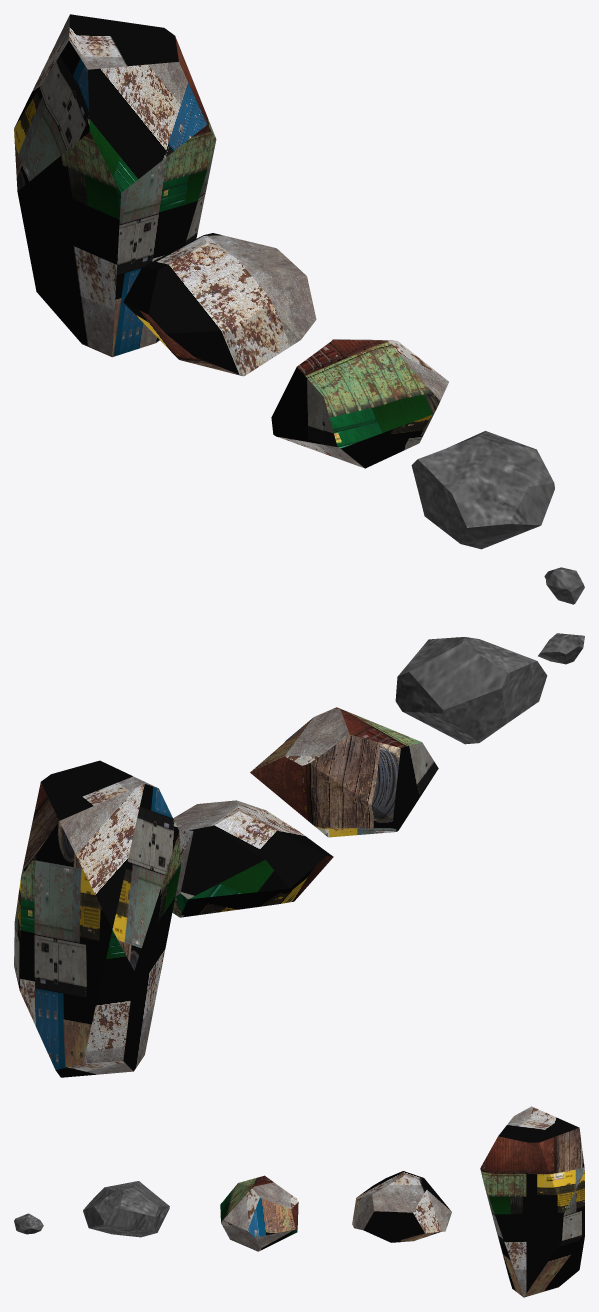
The picture shows the model from 3 angles, top to bottom: view 1: azimuth 30°, elevation 25°; view 2: azimuth 150°, elevation 25°; view 3: azimuth 270°, elevation 25°; orthographic projection. The views are drawn at different scales.
Visible parts, largest first — view 1: big rock, mediun rock, mediun rock 2, mediun rock 3, small rock; view 2: big rock, mediun rock 2, mediun rock, mediun rock 3, small rock; view 3: big rock, mediun rock, mediun rock 2, mediun rock 3, small rock.
Boxes of the visible parts, left/top/right/bottom form: big rock: left=14, top=14, right=216, bottom=357; mediun rock: left=123, top=233, right=316, bottom=376; mediun rock 2: left=271, top=339, right=448, bottom=468; mediun rock 3: left=411, top=431, right=554, bottom=549; small rock: left=544, top=567, right=584, bottom=604; big rock: left=14, top=760, right=181, bottom=1077; mediun rock 2: left=250, top=707, right=438, bottom=837; mediun rock: left=172, top=800, right=333, bottom=917; mediun rock 3: left=395, top=637, right=547, bottom=744; small rock: left=538, top=633, right=584, bottom=664; big rock: left=480, top=1106, right=584, bottom=1297; mediun rock: left=352, top=1171, right=451, bottom=1242; mediun rock 2: left=220, top=1175, right=298, bottom=1251; mediun rock 3: left=83, top=1181, right=169, bottom=1237; small rock: left=14, top=1213, right=43, bottom=1234.
Bounding box in the file's own units: 2.3 × 3.8 × 11.96.
